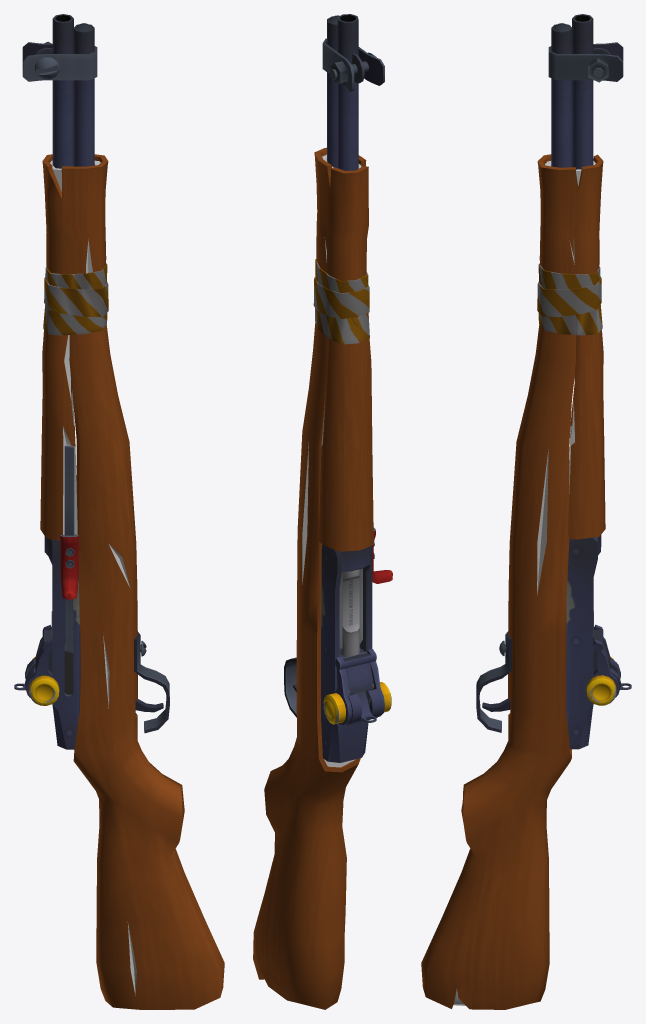
The model's file is Garand_Preview.fbx.
3 renders of one model, left to right at view 1: azimuth 90°, elevation 25°; view 2: azimuth 210°, elevation 25°; view 3: azimuth 270°, elevation 25°, orthographic. The views are drawn at different scales.
Visible parts, largest first — view 1: Preview; view 2: Preview; view 3: Preview.
Part boxes in pixels (left/top/right/bottom): Preview: left=14, top=14, right=224, bottom=1009; Preview: left=253, top=14, right=392, bottom=1009; Preview: left=421, top=14, right=631, bottom=1009.
Bounding box in the file's own units: 0.454 × 5.79 × 1.12.
